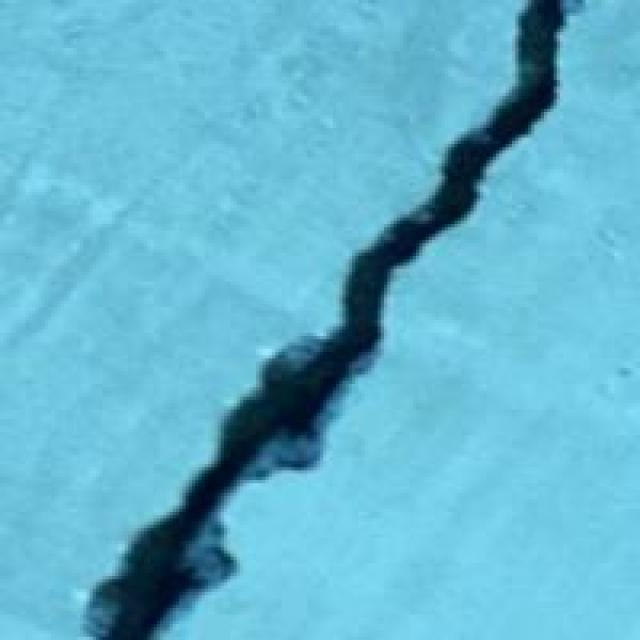Crack: (64, 0, 586, 637)
